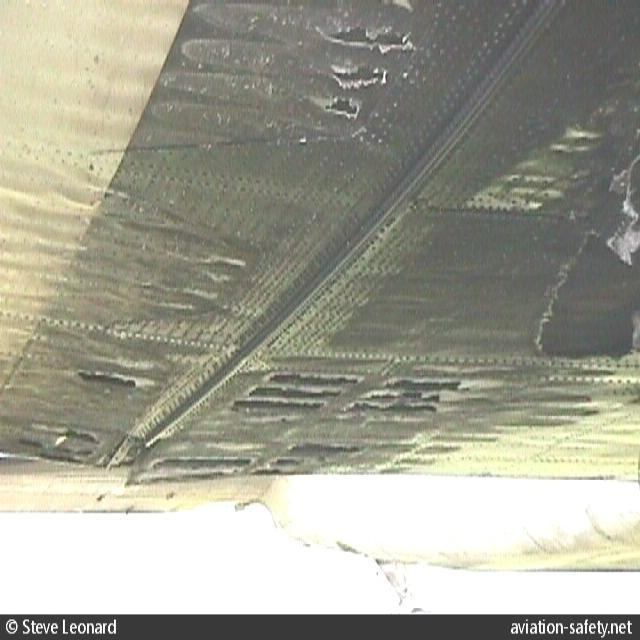crack: (311, 23, 418, 127)
